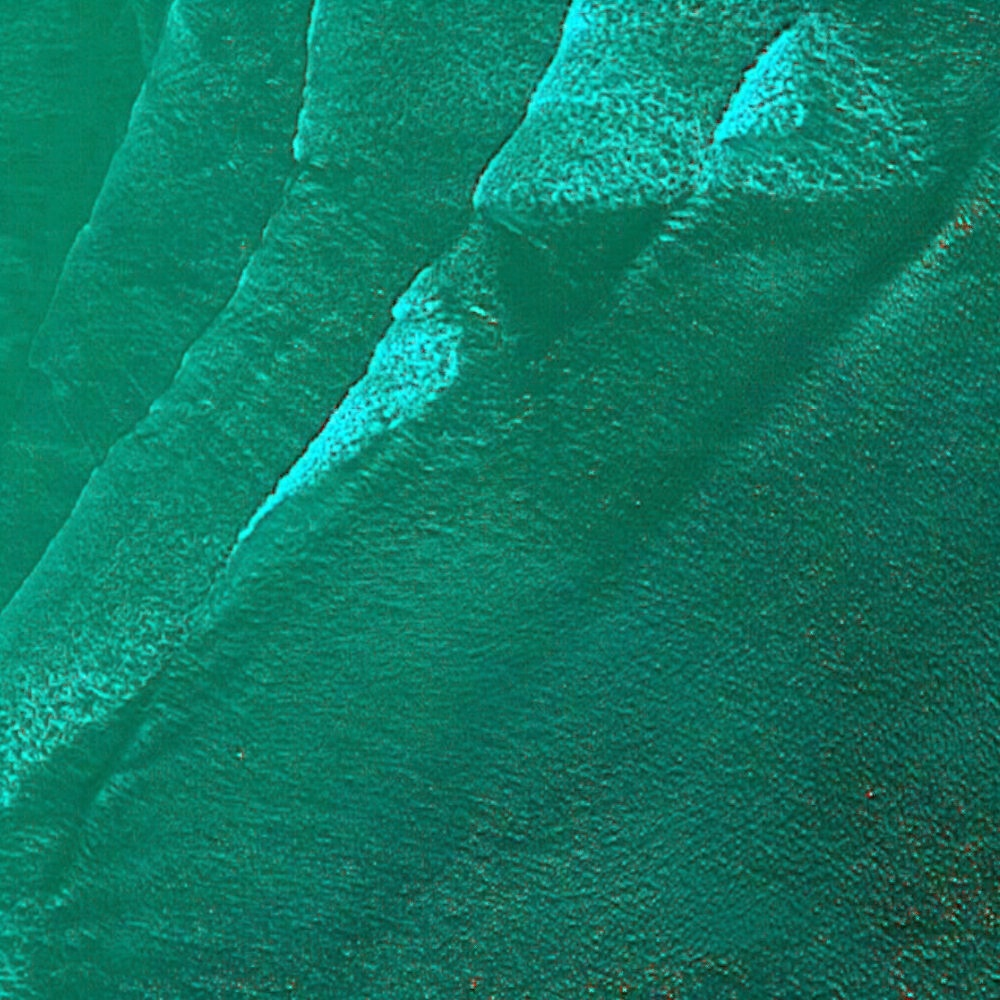rip_current: (172, 122, 918, 395)
